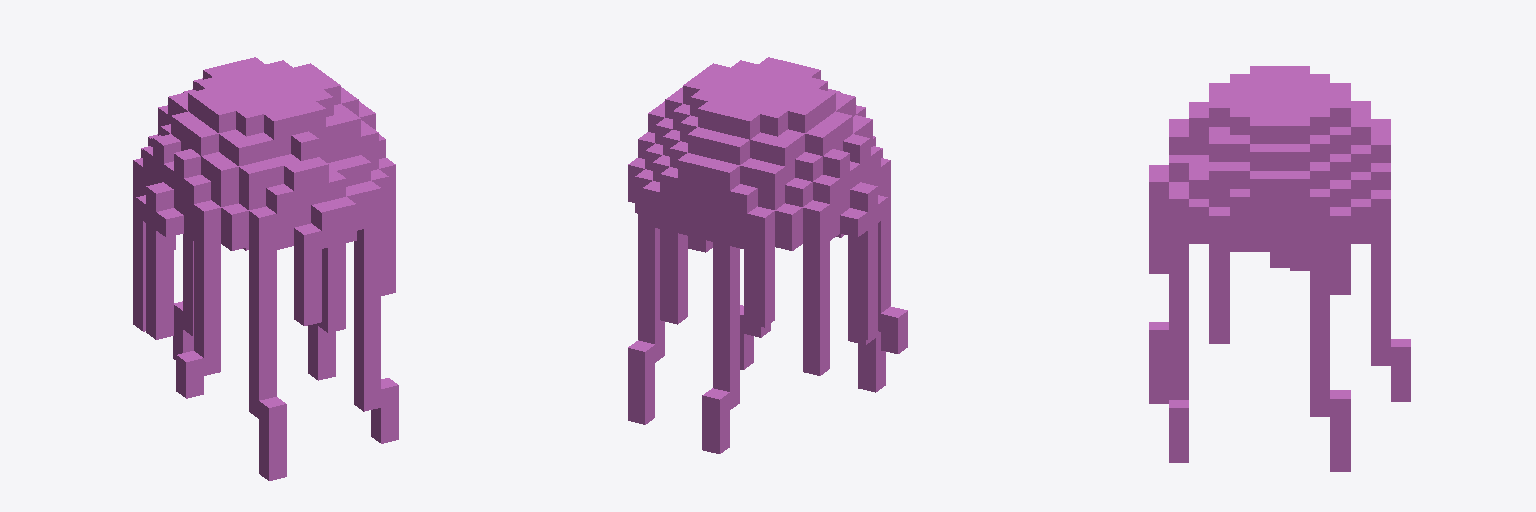
The picture shows the model from 3 angles: view 1: azimuth 30°, elevation 25°; view 2: azimuth 150°, elevation 25°; view 3: azimuth 270°, elevation 25°; orthographic projection.
Size of the model in its own units: 12 by 18 by 13.
1 materials, 1 textured.